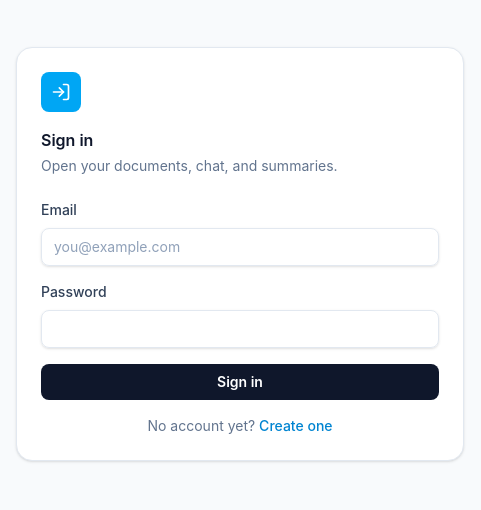
Test: LoginPage › asks for credentials when the form is submitted empty
This screenshot has width=481, height=510.
Click the button "Sign in".
click(240, 382)  # box [41,364,439,400]
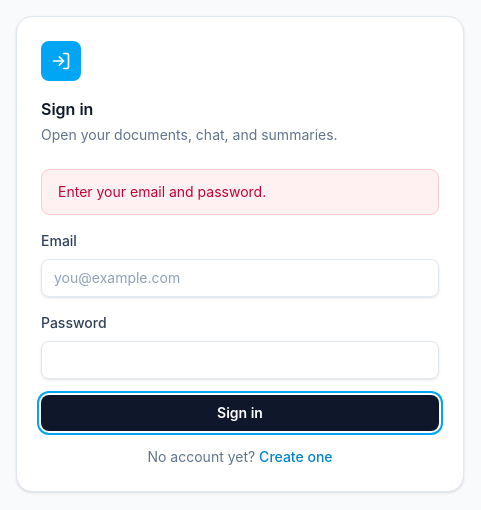
Now the text "Enter your email and password." is shown, box [41,169,439,215]
